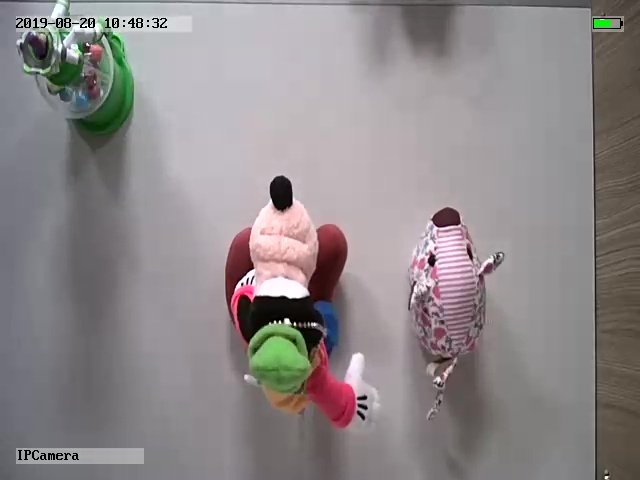buzz: (15, 3, 138, 128)
goofy: (224, 173, 381, 435)
pig: (406, 204, 505, 418)
